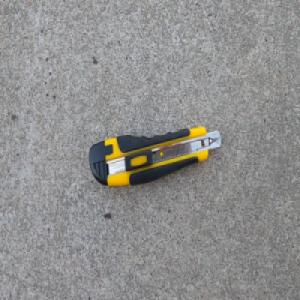Cutter: (87, 125, 221, 188)
